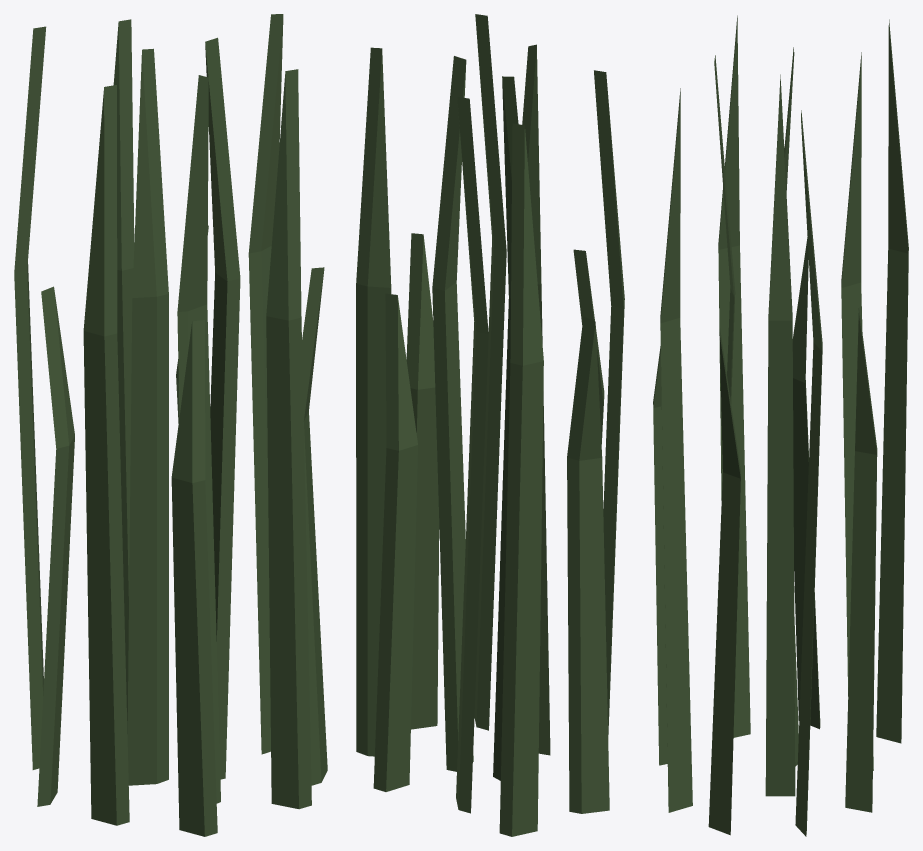
File: Grass.gltf
The picture shows the model from 3 angles, left to right: view 1: azimuth 30°, elevation 25°; view 2: azimuth 150°, elevation 25°; view 3: azimuth 270°, elevation 25°; orthographic projection. The views are drawn at different scales.
Parts seen in each view (by area): view 1: Grass; view 2: Grass; view 3: Grass.
Part boxes in pixels (left/top/right/bottom): Grass: left=14, top=14, right=327, bottom=836; Grass: left=356, top=14, right=624, bottom=836; Grass: left=653, top=15, right=908, bottom=836.
Size of the model in its own units: 0.3738 by 1.01 by 0.3272.
